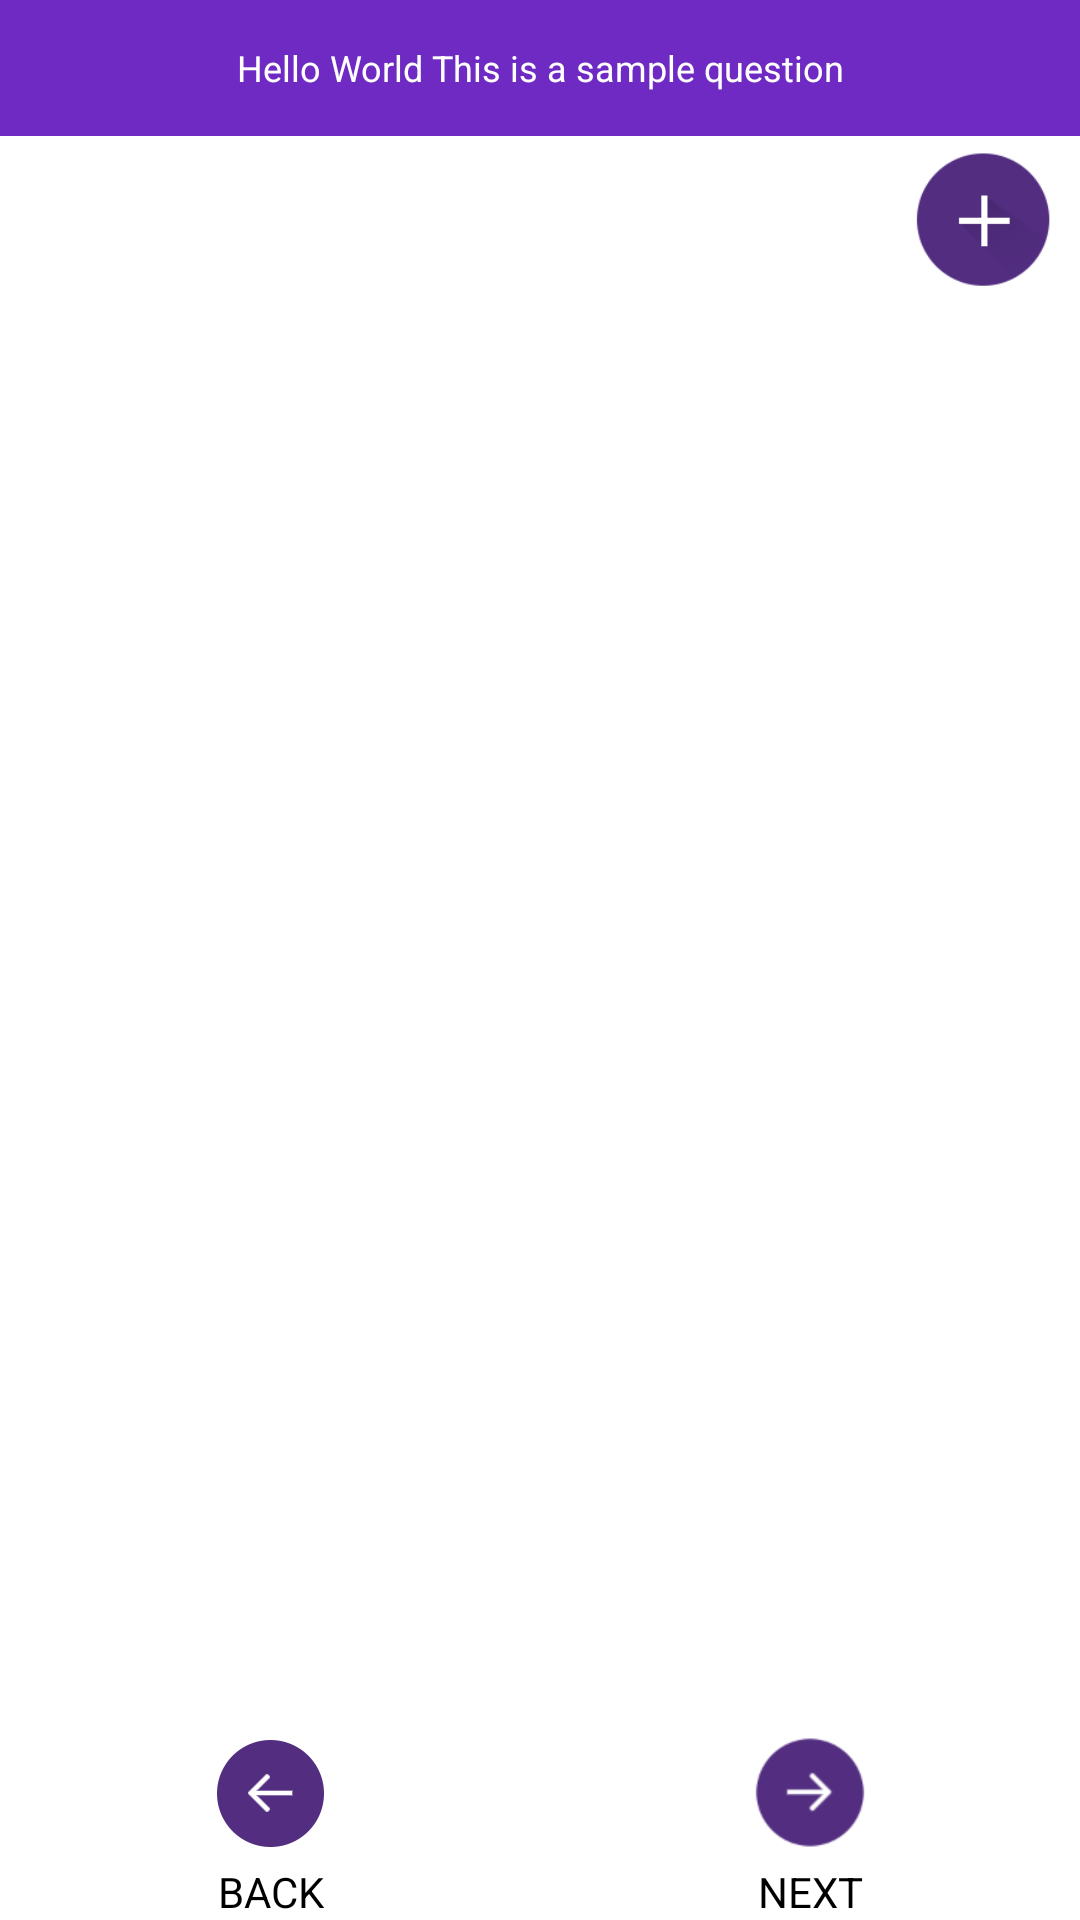

Icons on this 1080 × 1920 Android screen, each with the point to tap as (x,y):
addbutton: (983,219)
